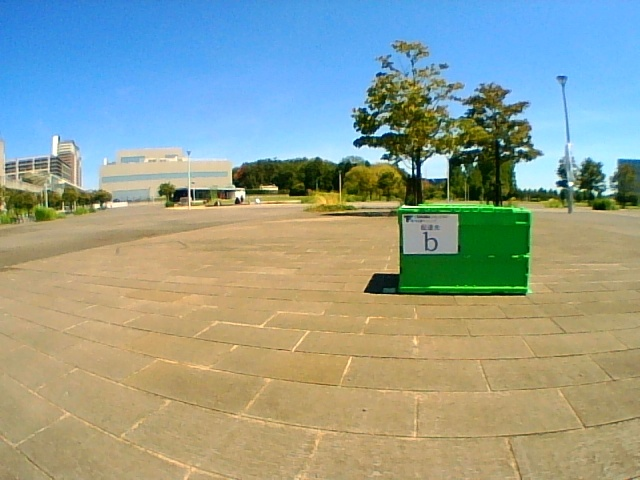green_box: (398, 203, 531, 296)
tag_b: (403, 214, 456, 253)
